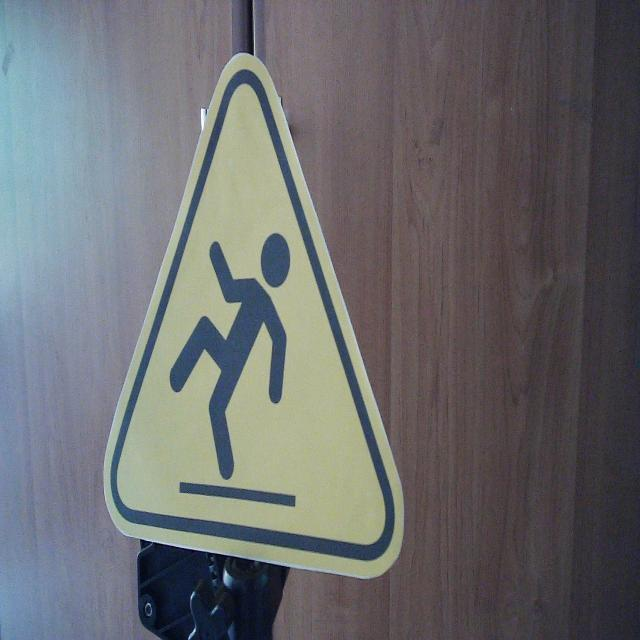slippery_sign: (100, 50, 408, 585)
